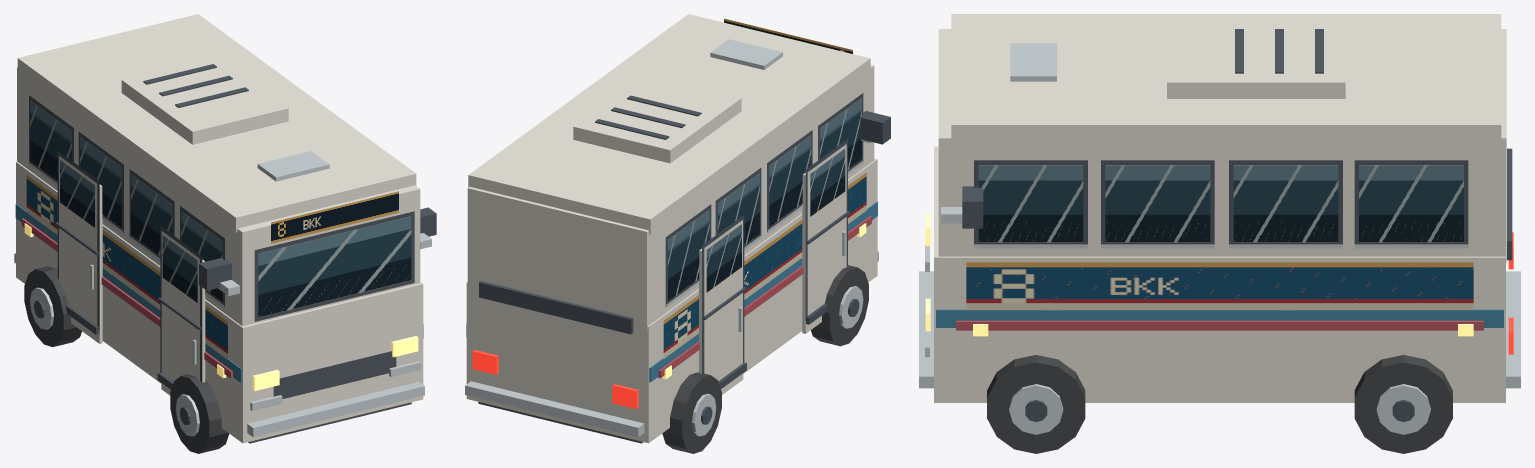
Rendered from bangkok-city-bus.gltf.
The picture shows the model from 3 angles, left to right: view 1: azimuth 30°, elevation 25°; view 2: azimuth 150°, elevation 25°; view 3: azimuth 270°, elevation 25°; orthographic projection. The views are drawn at different scales.
Visible parts, largest first — view 1: Bangkok route 8 city bus - right-hand drive; view 2: Bangkok route 8 city bus - right-hand drive; view 3: Bangkok route 8 city bus - right-hand drive.
Boxes of the visible parts, x1,y1,x2,y2 form: Bangkok route 8 city bus - right-hand drive: (14,14,436,453); Bangkok route 8 city bus - right-hand drive: (465,14,890,453); Bangkok route 8 city bus - right-hand drive: (919,14,1520,453).
Size of the model in its own units: 2.58 by 2.9 by 4.65.
12 materials, 3 textured.
